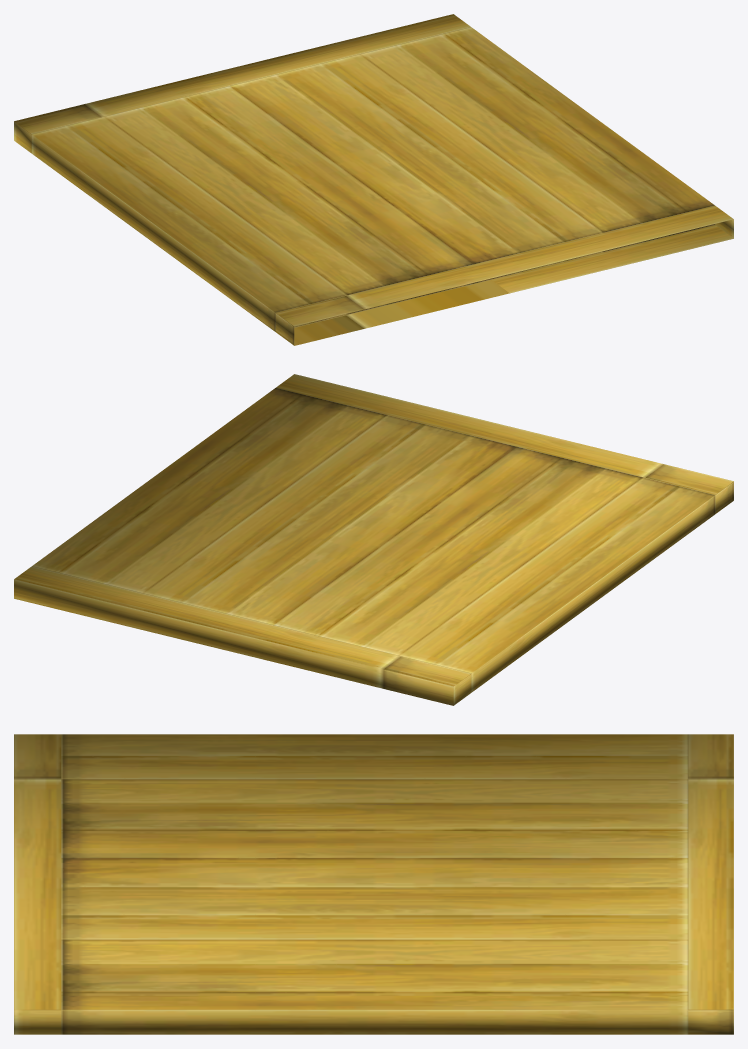
Rendered from HTOWN01_MILLPLATFORM04.fbx.
3 renders of one model, top to bottom at view 1: azimuth 30°, elevation 25°; view 2: azimuth 150°, elevation 25°; view 3: azimuth 270°, elevation 25°, orthographic. The views are drawn at different scales.
Visible parts, largest first — view 1: HTOWN01_MILLPLATFORM04; view 2: HTOWN01_MILLPLATFORM04; view 3: HTOWN01_MILLPLATFORM04.
Part boxes in pixels (x1,y1,x2,y2): HTOWN01_MILLPLATFORM04: [14, 14, 733, 345]; HTOWN01_MILLPLATFORM04: [14, 374, 733, 705]; HTOWN01_MILLPLATFORM04: [14, 734, 733, 1034].
Size of the model in its own units: 38107 by 1608 by 42115.
Materials: 1 (1 with a texture image).
